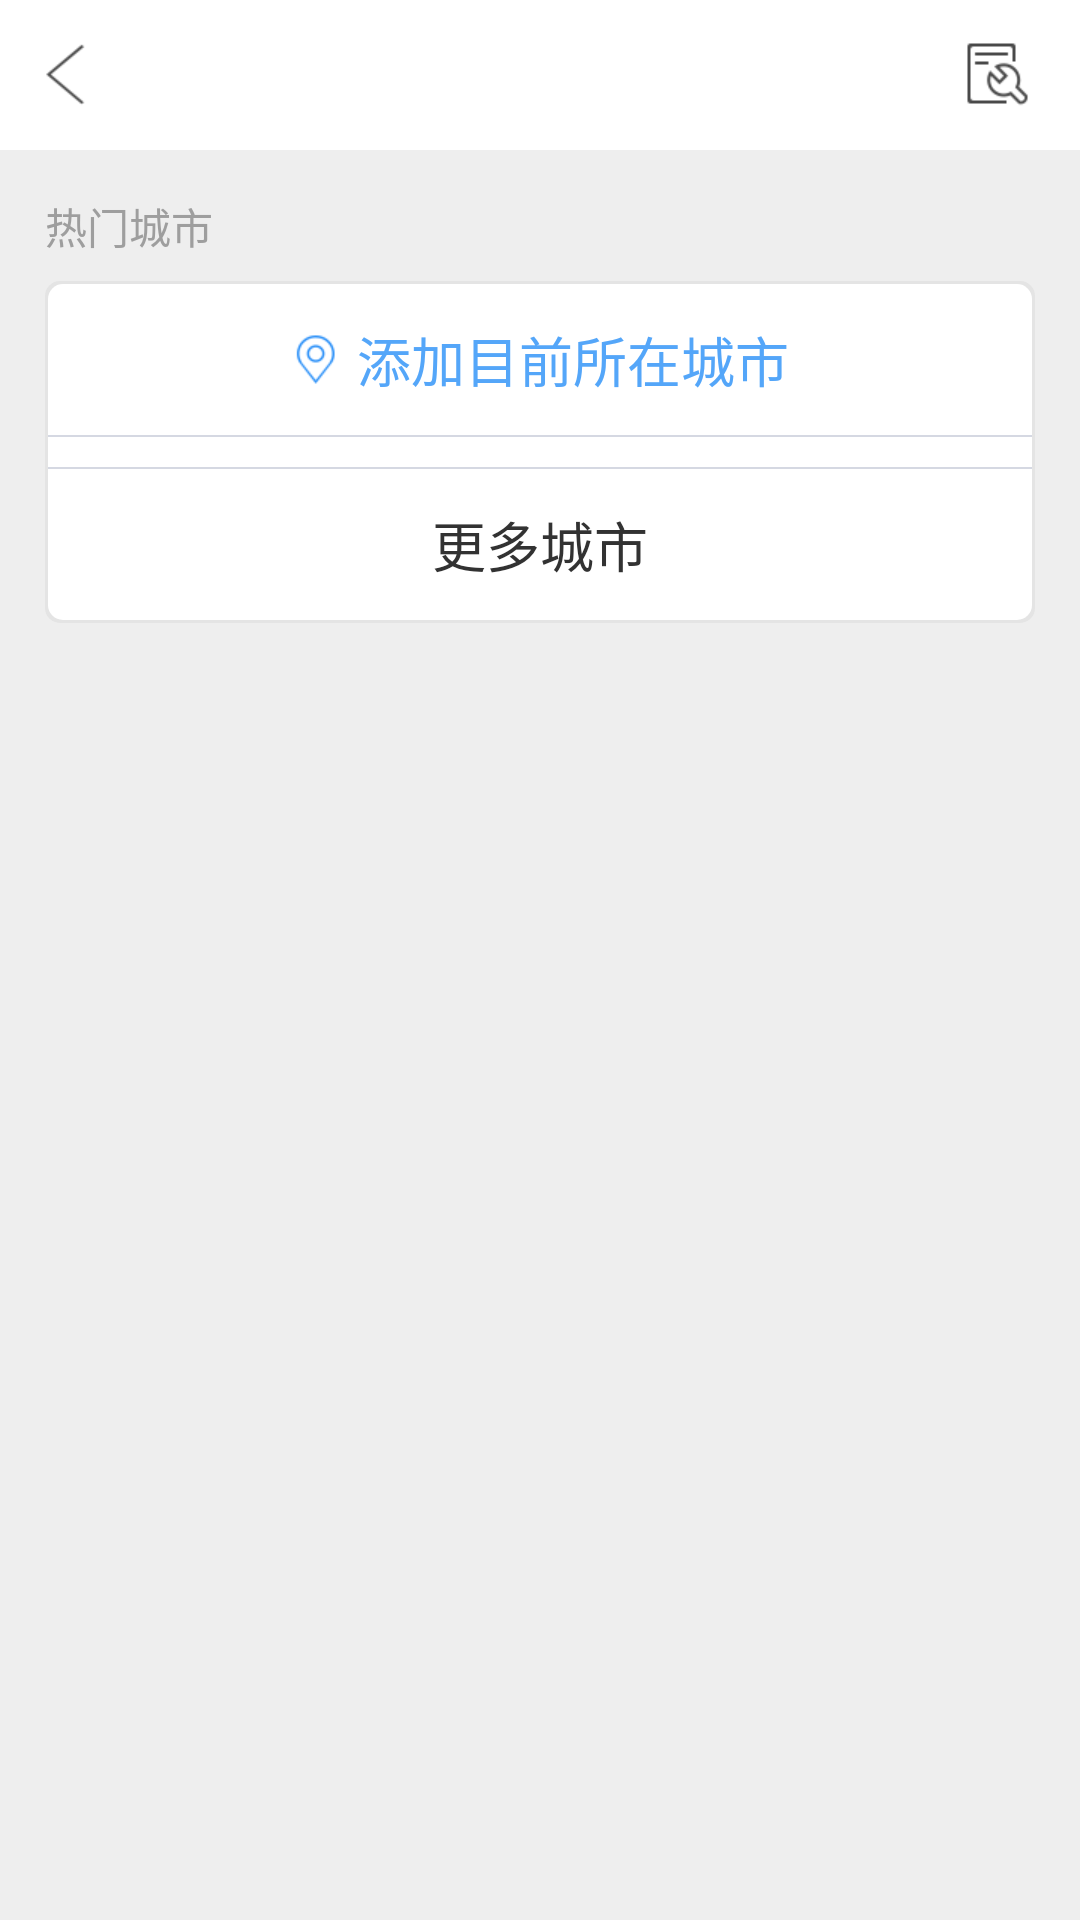

Screen size 1080px×1920px. Icon name, then its box in pixels as bbox=(x1, y1, x2, y2):
city view spot location: bbox=(296, 335, 335, 384)
